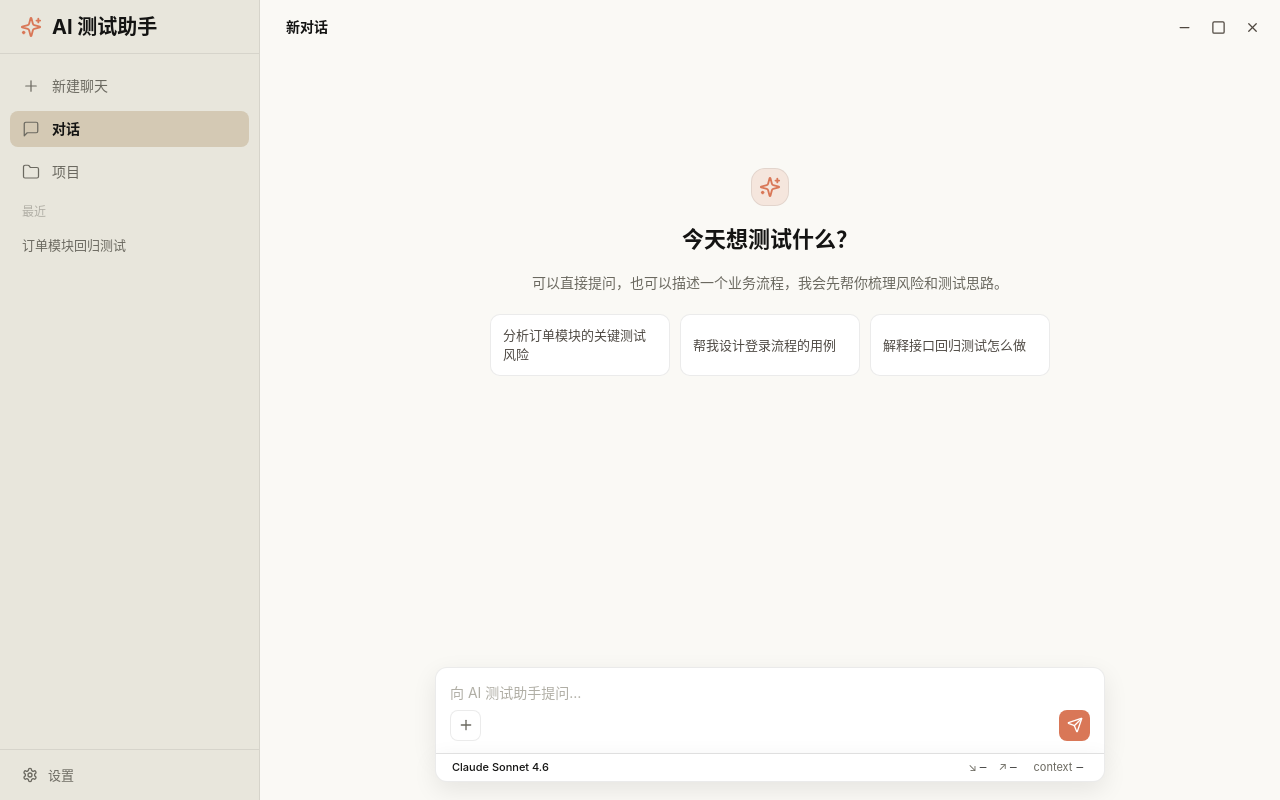
Test: App backend integration › creates a run through IPC and renders streamed SDK events
Type "测试订单模块功能" into the text box named "消息输入" at [770, 693], box [450,682,1090,704]
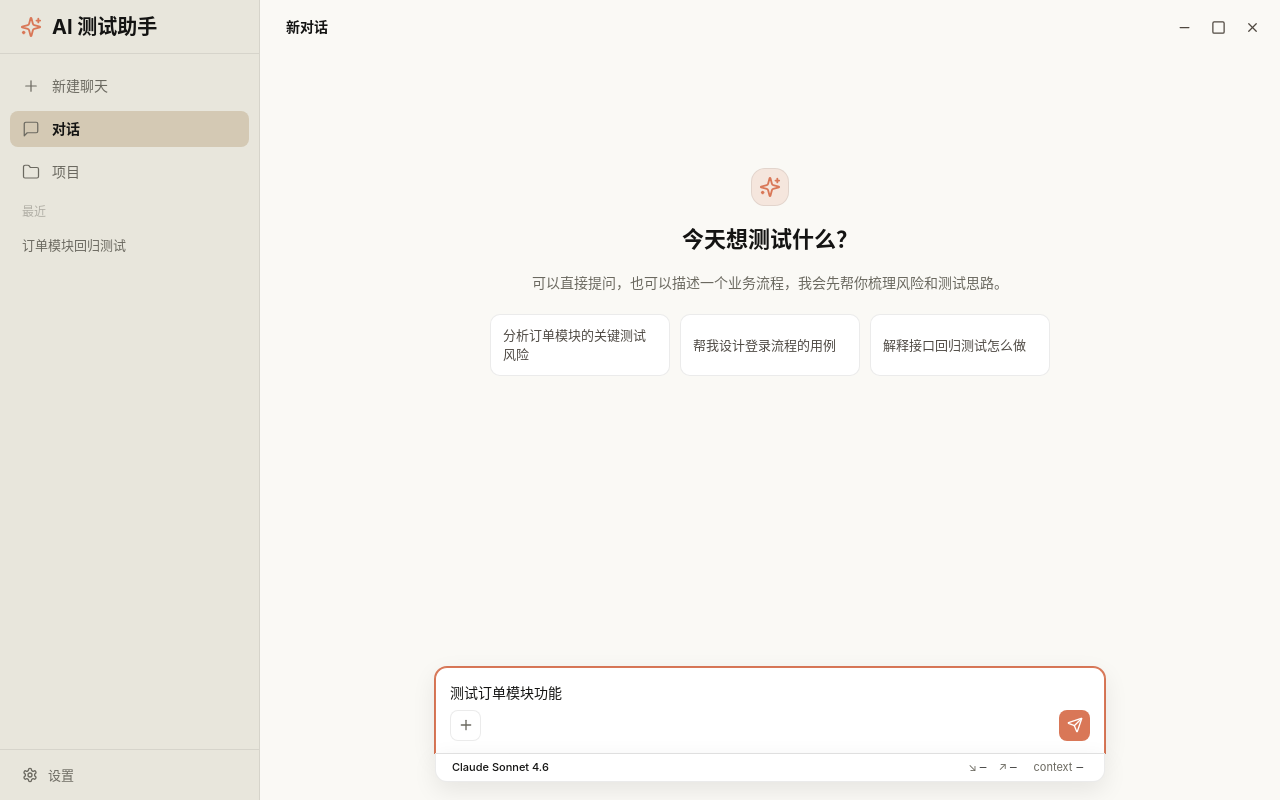
Click the button named "发送" at [1074, 725], box [1059,710,1090,741]
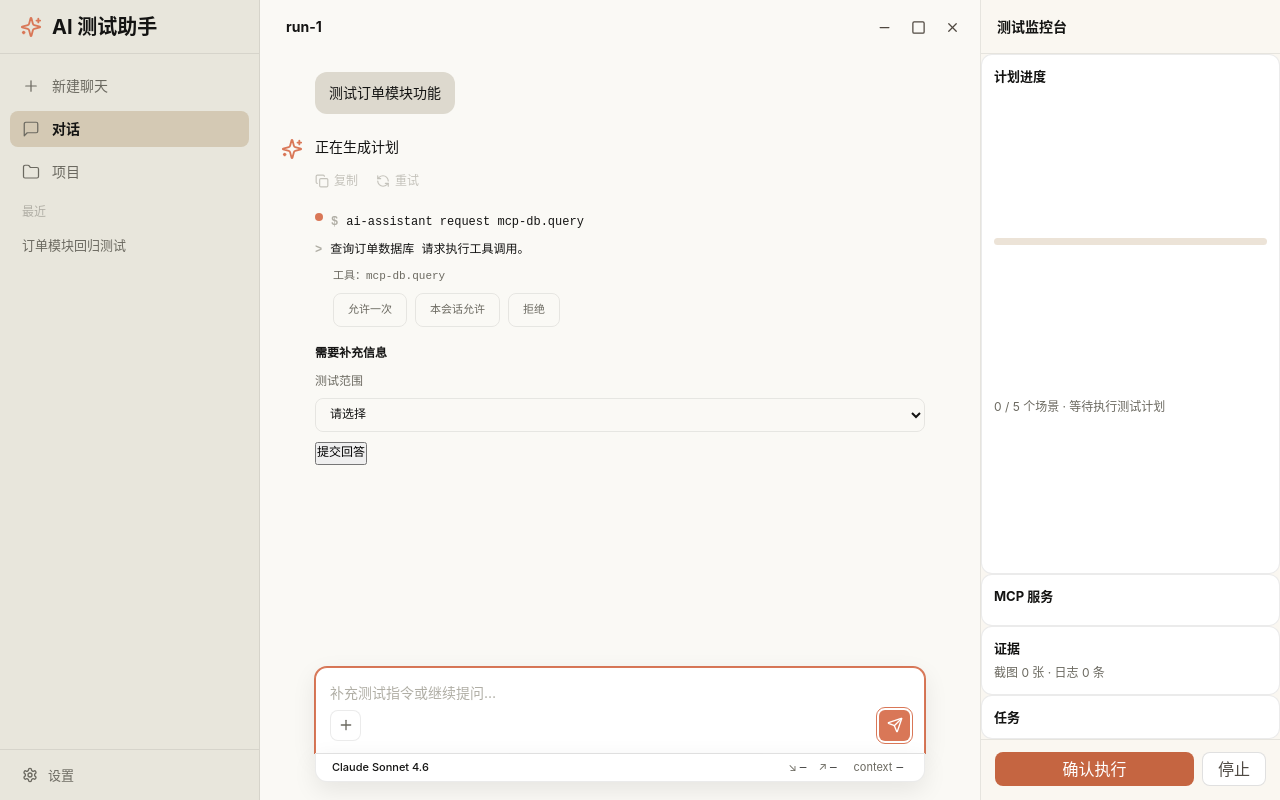
Check: the text "正在生成计划" is shown, box [315,138,399,155]
Check: the text "查询订单数据库" is shown, box [330,243,529,257]
Check: the text "需要补充信息" is shown, box [315,347,387,361]
